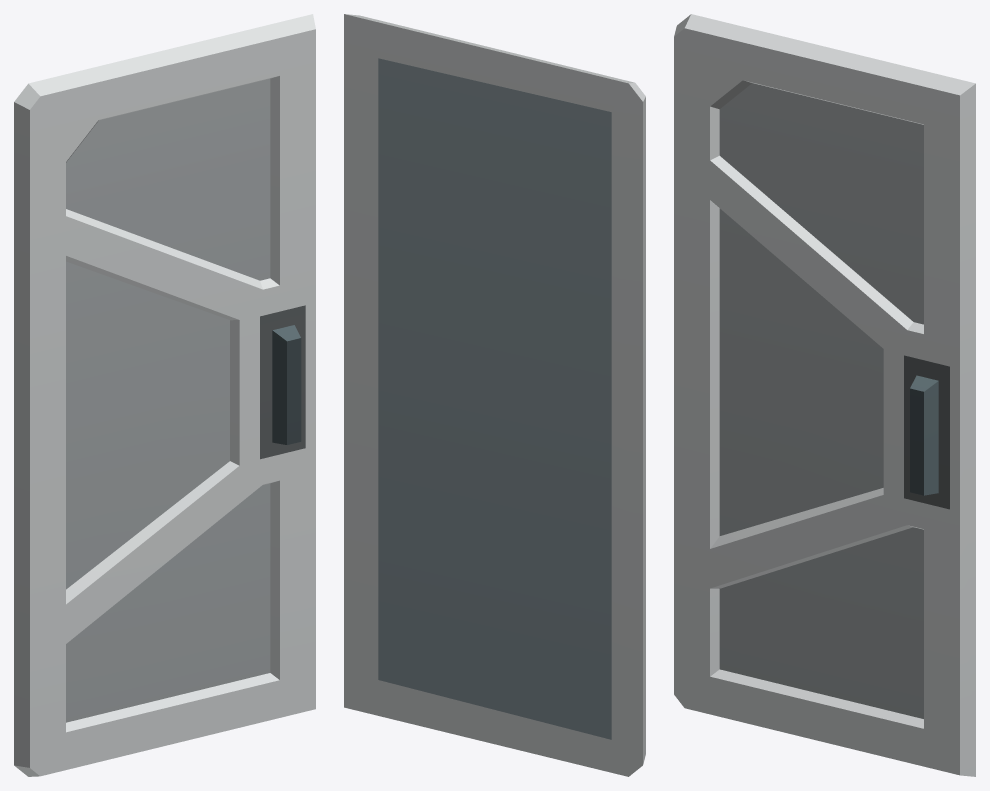
File: Container_type_B_door_001.fbx
3 views of the same model, side by side, from view 1: azimuth 30°, elevation 25°; view 2: azimuth 150°, elevation 25°; view 3: azimuth 330°, elevation 25° (orthographic).
Visible parts, largest first — view 1: Container_type_B_door_001; view 2: Container_type_B_door_001; view 3: Container_type_B_door_001.
Part boxes in pixels (<box>): Container_type_B_door_001: <box>14,14,315,776</box>; Container_type_B_door_001: <box>344,14,645,776</box>; Container_type_B_door_001: <box>674,14,975,776</box>.
Size of the model in its own units: 92.5 by 10.72 by 205.
